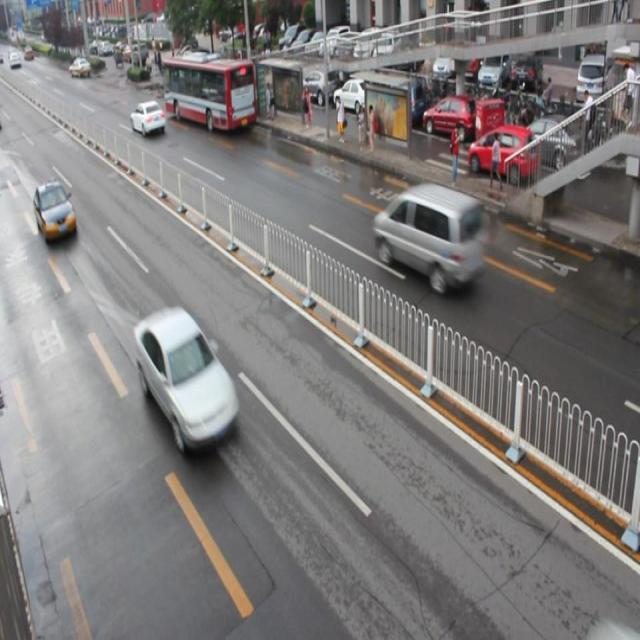car: (135, 306, 240, 447), (34, 178, 77, 242), (130, 100, 164, 136)
truck: (373, 183, 482, 292)
van: (164, 56, 255, 130)
